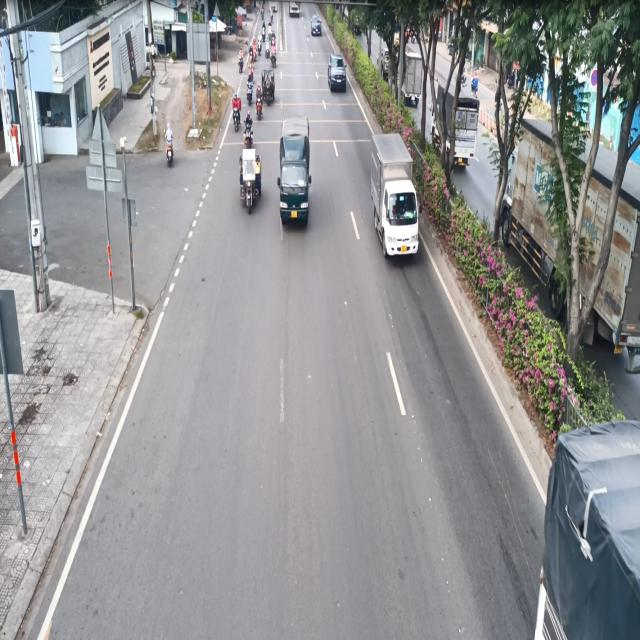car: (325, 50, 349, 102), (310, 14, 322, 41)
motor: (162, 116, 179, 166), (230, 92, 241, 134)
truck: (368, 129, 423, 267), (276, 112, 314, 230)
